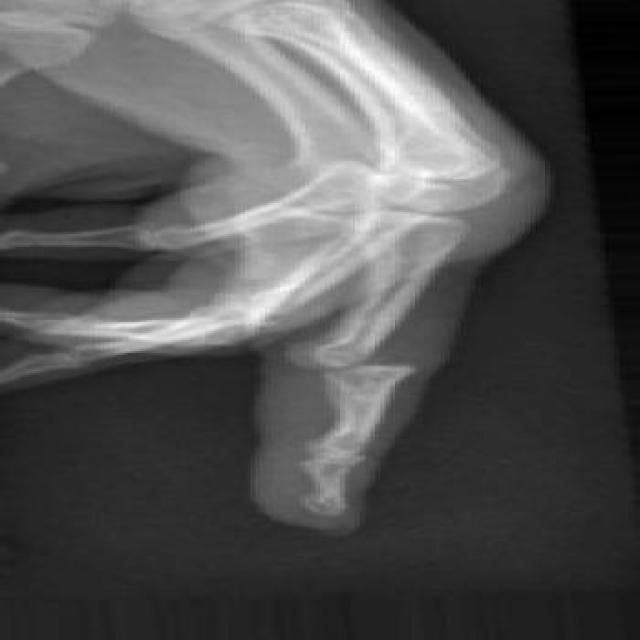Fracture: (272, 342, 425, 382)
